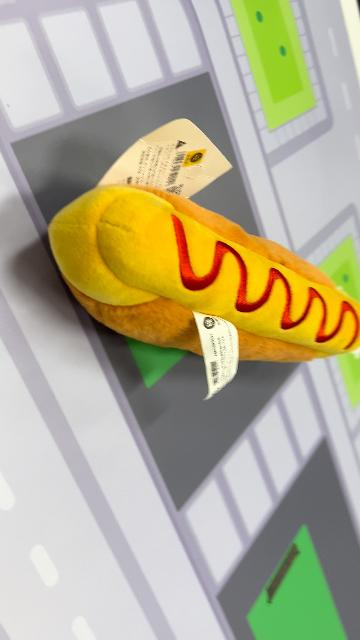hotdog: (47, 182, 359, 366)
